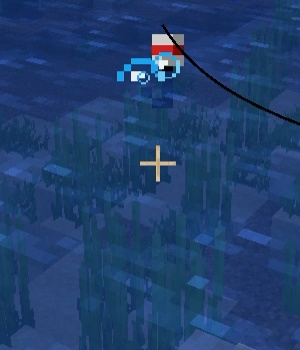up: (146, 29, 189, 102)
